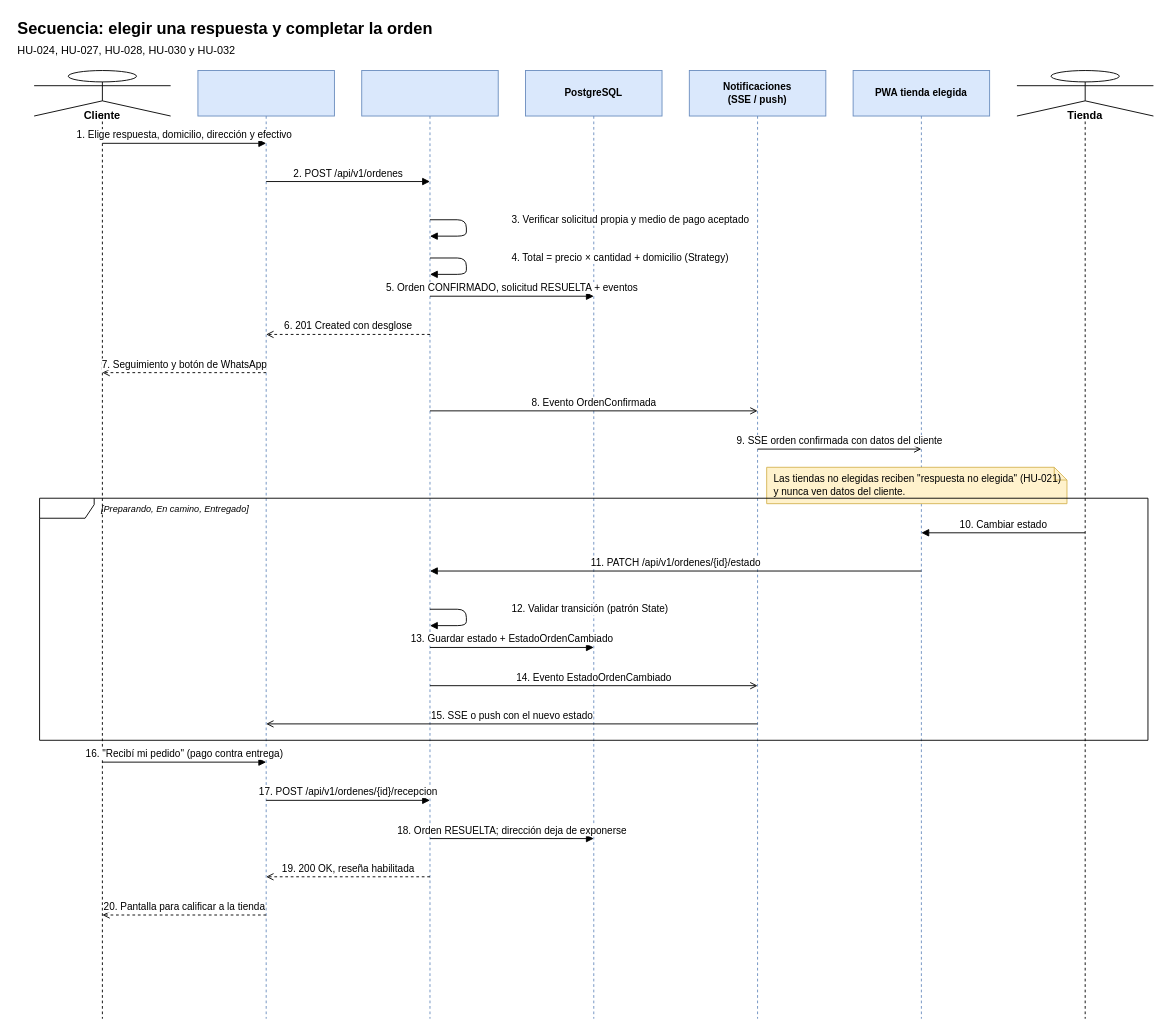
Some shapes in this 1169 by 1035 pixel diagram are drawn without their labels. Here are the shapes that lost their labels. From the top down, the box of each, then its label:
(197, 70, 334, 1019): PWA cliente
(361, 70, 498, 1019): API REST módulo órdenes
(39, 497, 1148, 740): loop
